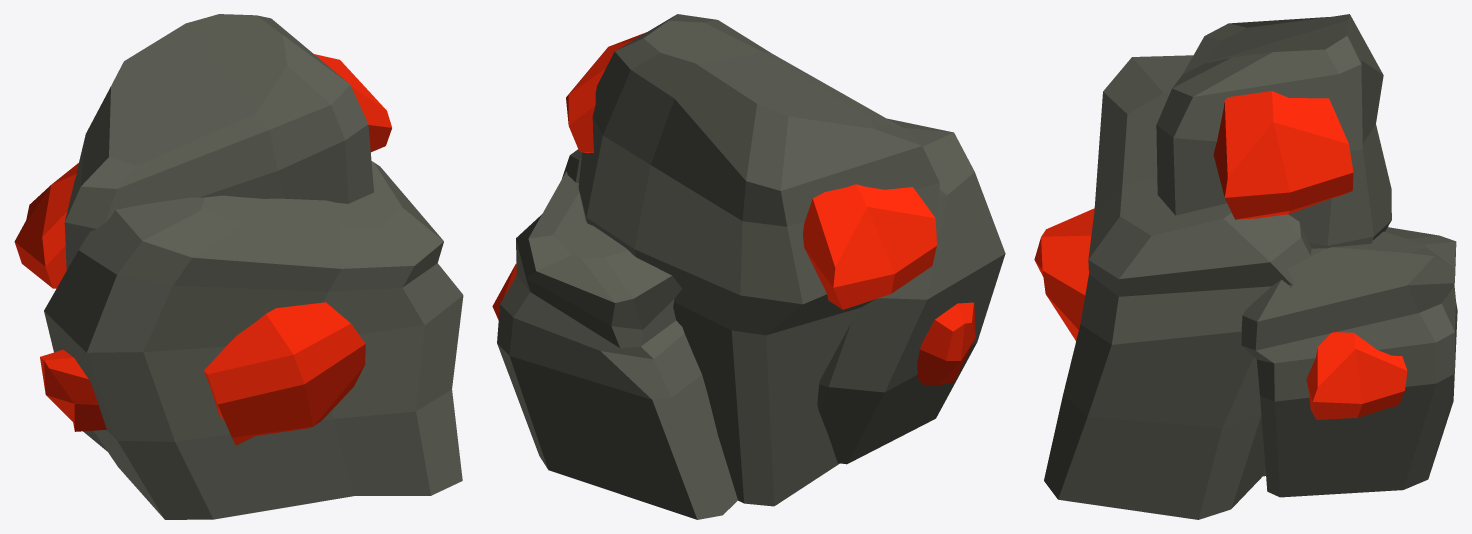
Rendered from Ore2_Red.fbx.
3 renders of one model, left to right at view 1: azimuth 30°, elevation 25°; view 2: azimuth 150°, elevation 25°; view 3: azimuth 270°, elevation 25°, orthographic. The views are drawn at different scales.
Parts seen in each view (by area): view 1: Ore2_Red, Red; view 2: Ore2_Red, Red; view 3: Ore2_Red, Red.
Part boxes in pixels (x1,y1,x2,y2): Ore2_Red: (44,14,463,519); Red: (14,54,391,445); Ore2_Red: (497,14,1005,519); Red: (492,32,975,385); Ore2_Red: (1044,14,1457,519); Red: (1034,91,1407,419).
Bounding box in the file's own units: 211 × 201 × 188.
